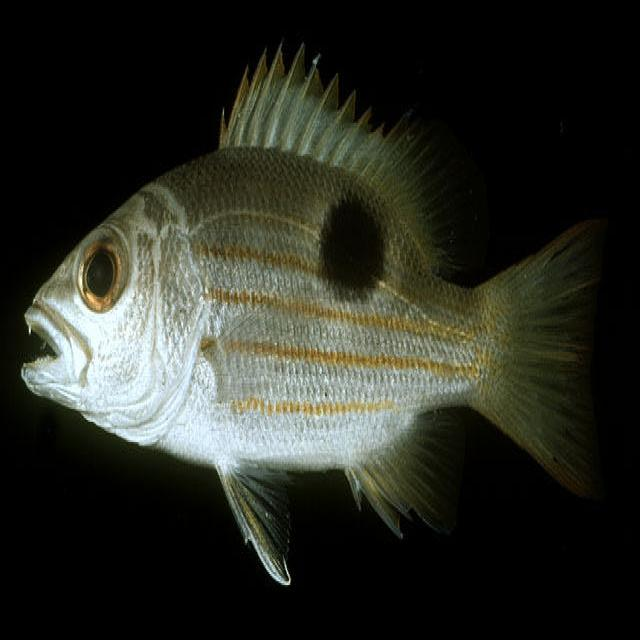ikan: (11, 26, 618, 595)
